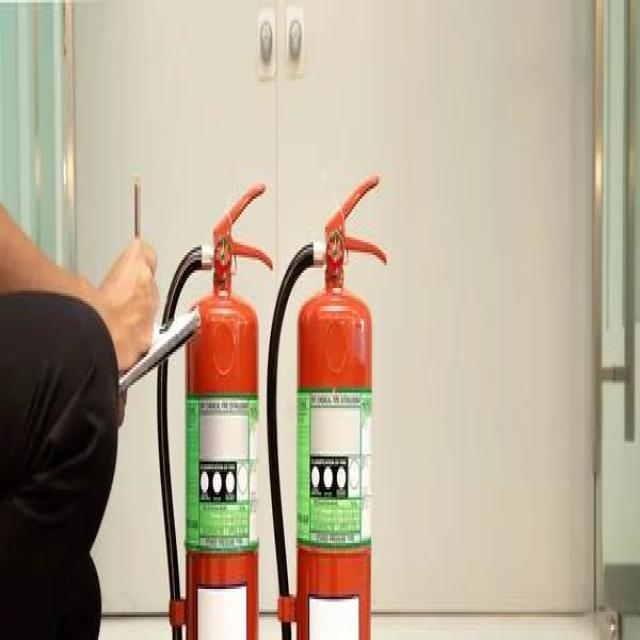fire_extinguisher: (262, 168, 389, 638), (150, 173, 276, 638)
